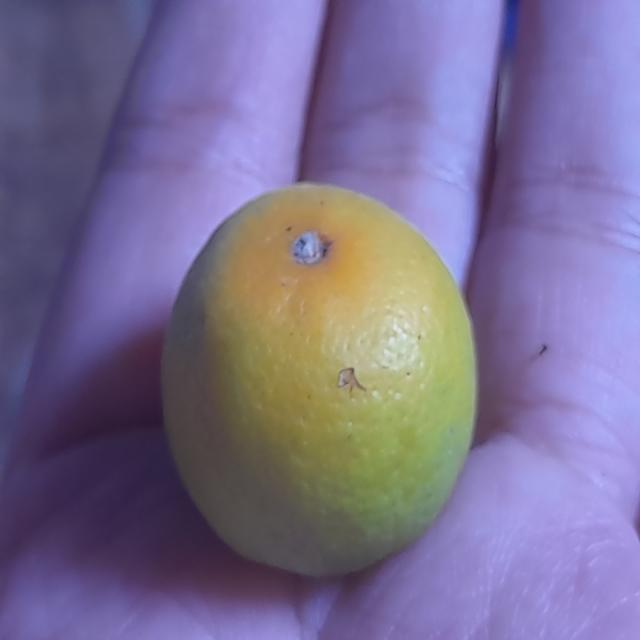greening: (154, 182, 480, 580)
